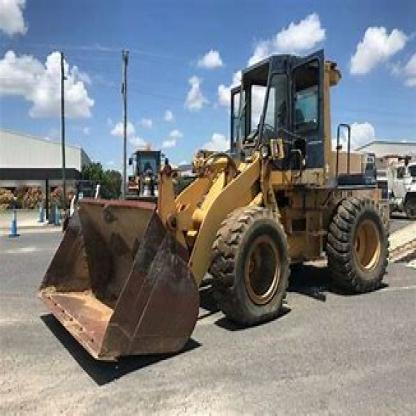bull_dozer/loader/grader: (31, 39, 396, 374)
